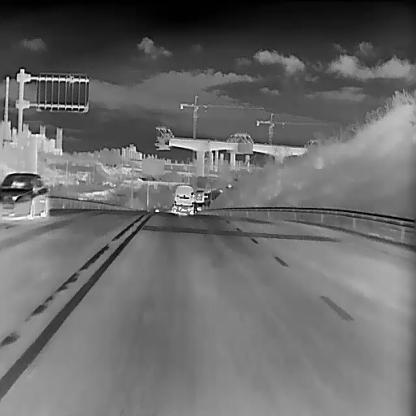car: (0, 172, 47, 219), (172, 183, 193, 214), (195, 190, 204, 202)
